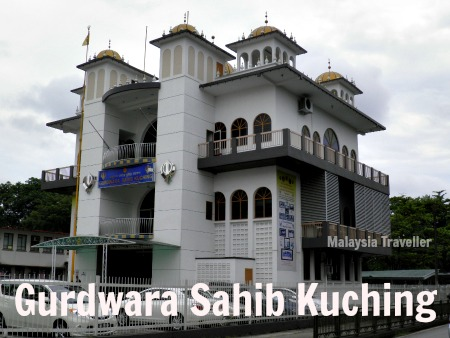Gurdwara: (55, 16, 382, 297)
